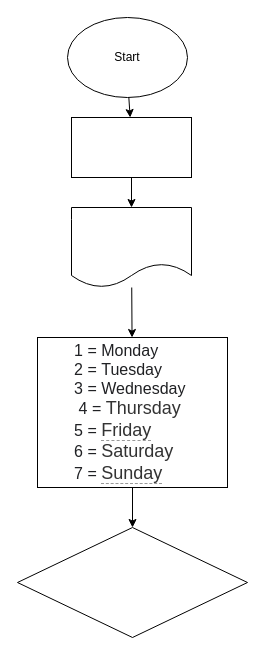
Image size: 265x655. Some labels were removed from this diagram. The shapes that lost their labels are listed below. From the top down, each one's centre as x and y in pixels, then its label:
the point at 131,147: userNumber
the point at 132,582: userNumber ==
